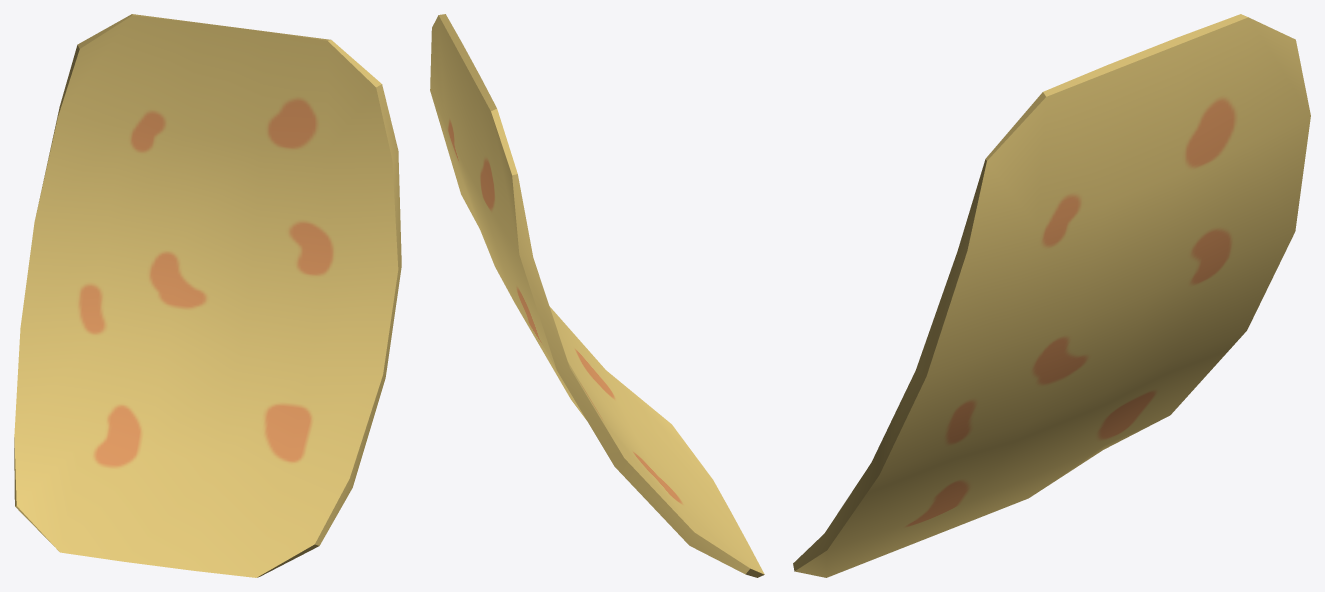
The model's file is Asset_25_02_Snack.fbx.
3 renders of one model, left to right at view 1: azimuth 30°, elevation 25°; view 2: azimuth 150°, elevation 25°; view 3: azimuth 270°, elevation 25°, orthographic. The views are drawn at different scales.
Visible parts, largest first — view 1: SK_25_02_Snack1; view 2: SK_25_02_Snack1; view 3: SK_25_02_Snack1.
Part boxes in pixels (x1,y1,x2,y2): SK_25_02_Snack1: (14, 14, 401, 577); SK_25_02_Snack1: (430, 14, 764, 577); SK_25_02_Snack1: (793, 14, 1310, 577).
Bounding box in the file's own units: 0.4964 × 0.627 × 0.504.
